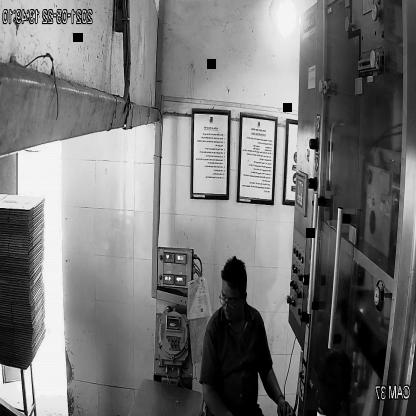goggles: (218, 292, 248, 310)
